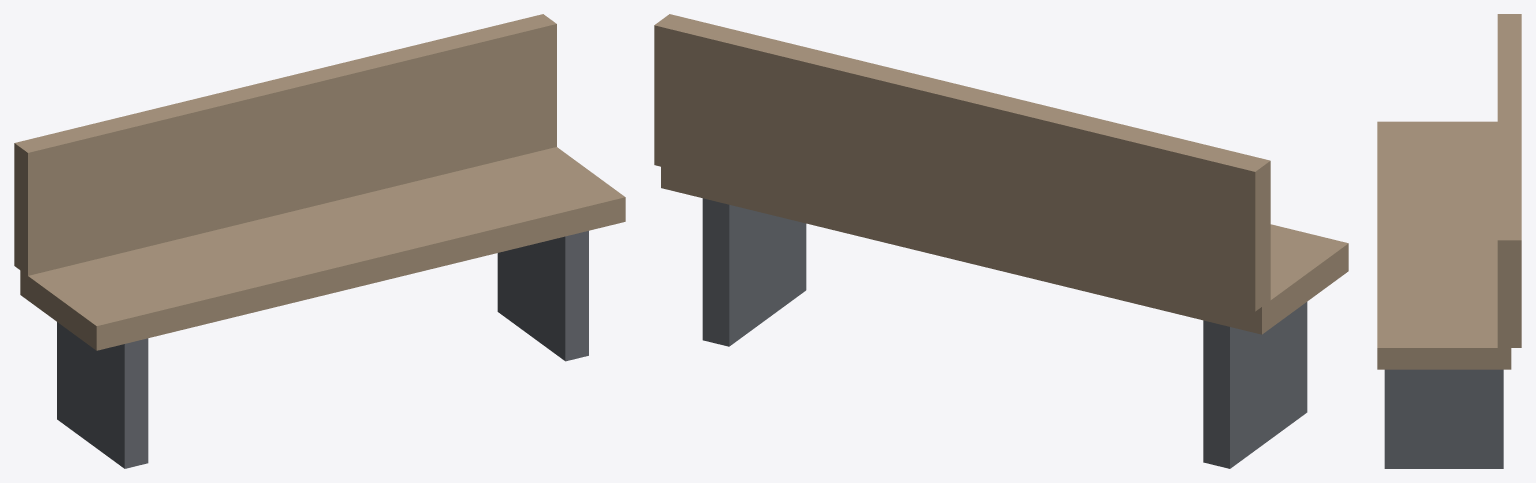
File: bench.glb
The picture shows the model from 3 angles, left to right: view 1: azimuth 30°, elevation 25°; view 2: azimuth 150°, elevation 25°; view 3: azimuth 270°, elevation 25°; orthographic projection. The views are drawn at different scales.
Parts seen in each view (by area): view 1: bench; view 2: bench; view 3: bench.
Boxes of the visible parts, x1,y1,x2,y2 form: bench: (14,14,625,468); bench: (654,14,1348,468); bench: (1377,14,1521,468).
Size of the model in its own units: 1.8 by 0.9 by 0.485.
